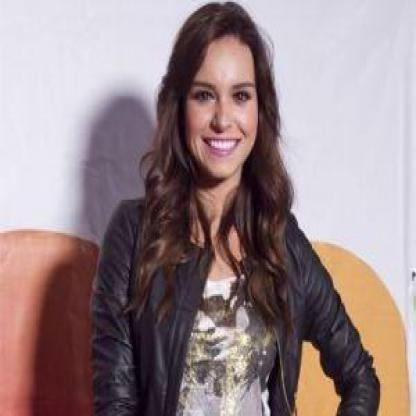long-hair: (130, 178, 310, 238)
